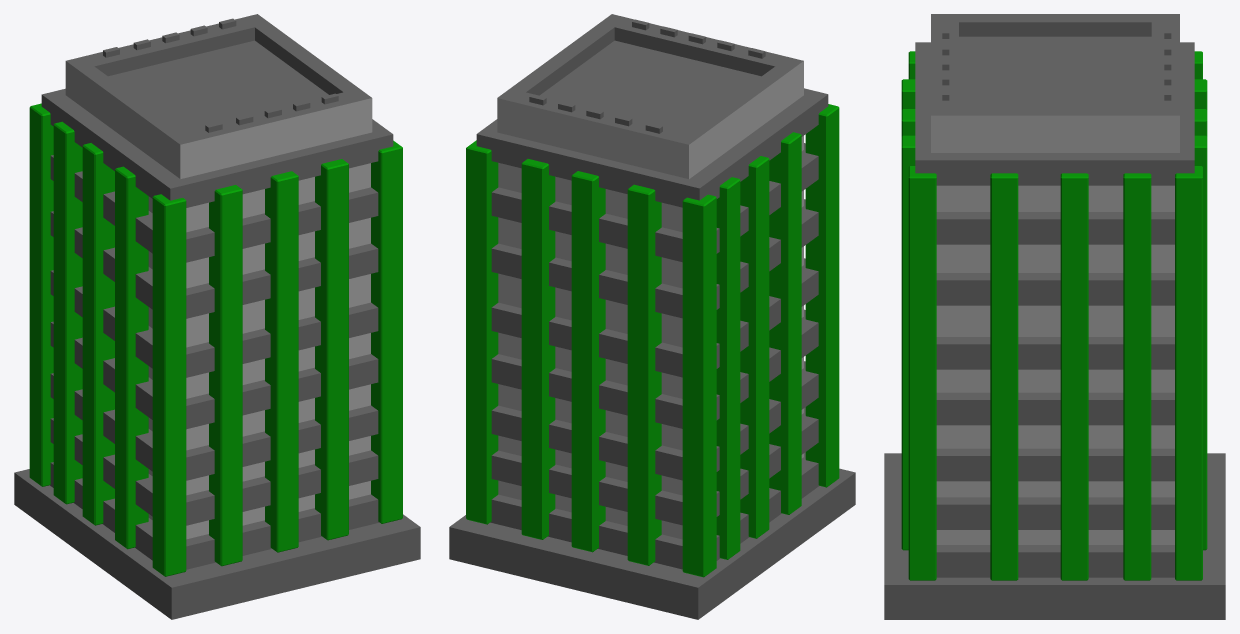
The model's file is Batiment_vert_fluo.fbx.
The picture shows the model from 3 angles, left to right: view 1: azimuth 30°, elevation 25°; view 2: azimuth 150°, elevation 25°; view 3: azimuth 270°, elevation 25°; orthographic projection. The views are drawn at different scales.
Parts seen in each view (by area): view 1: pCube188; view 2: pCube188; view 3: pCube188.
Part boxes in pixels (x1,y1,x2,y2): pCube188: (14, 14, 420, 619); pCube188: (449, 14, 855, 619); pCube188: (884, 14, 1225, 619).
Size of the model in its own units: 458 by 804 by 502.
